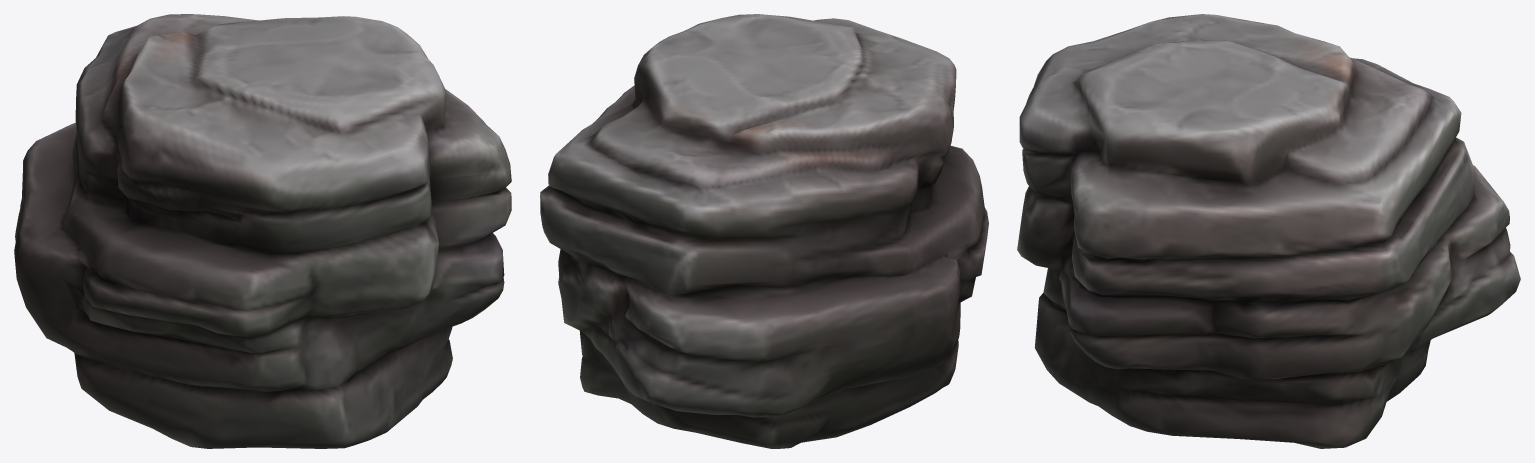
File: o3_roccia_03.glb
The picture shows the model from 3 angles, left to right: view 1: azimuth 30°, elevation 25°; view 2: azimuth 150°, elevation 25°; view 3: azimuth 270°, elevation 25°; orthographic projection. The views are drawn at different scales.
Visible parts, largest first — view 1: sb_modello; view 2: sb_modello; view 3: sb_modello.
Boxes of the visible parts, box(x1,y1,x2,y2) form: sb_modello: box(14, 14, 511, 448); sb_modello: box(540, 14, 988, 448); sb_modello: box(1017, 14, 1520, 448).
Size of the model in its own units: 3.76 by 2.93 by 4.22.
Materials: 1 (1 with a texture image).
